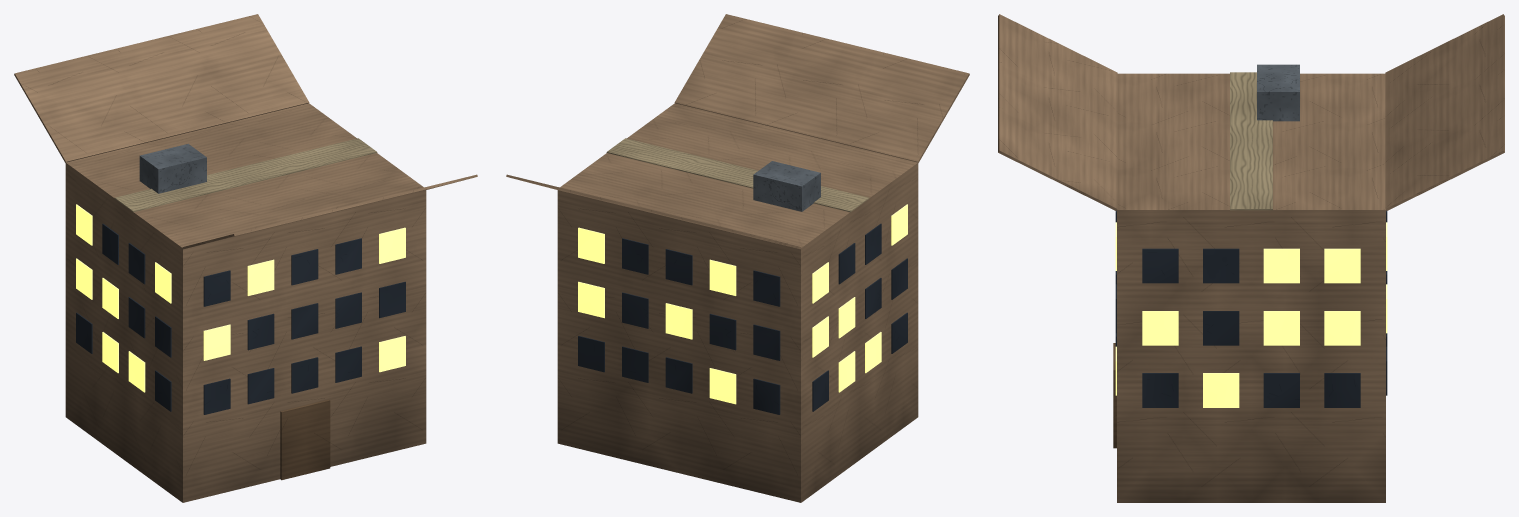
File: building_box.glb
3 renders of one model, left to right at view 1: azimuth 30°, elevation 25°; view 2: azimuth 150°, elevation 25°; view 3: azimuth 270°, elevation 25°, orthographic. The views are drawn at different scales.
Parts seen in each view (by area): view 1: building_box, group_1, group_46; view 2: building_box, group_17, group_46; view 3: building_box, group_33.
Part boxes in pixels (x1,y1,x2,y2): building_box: (14, 14, 477, 502); group_1: (203, 227, 405, 414); group_46: (76, 204, 171, 411); building_box: (506, 14, 969, 502); group_17: (578, 227, 780, 414); group_46: (812, 204, 907, 411); building_box: (998, 14, 1504, 502); group_33: (1142, 248, 1360, 407).
Size of the model in its own units: 12.1 by 14.44 by 18.82.
Materials: 6 (5 with a texture image).
